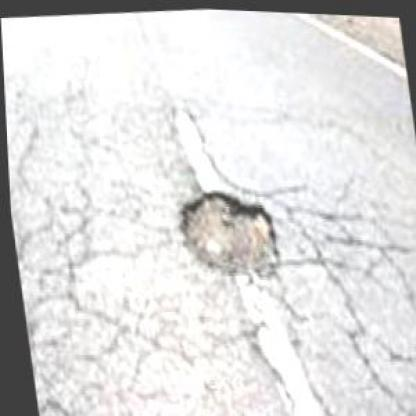pothole: (169, 179, 283, 284)
